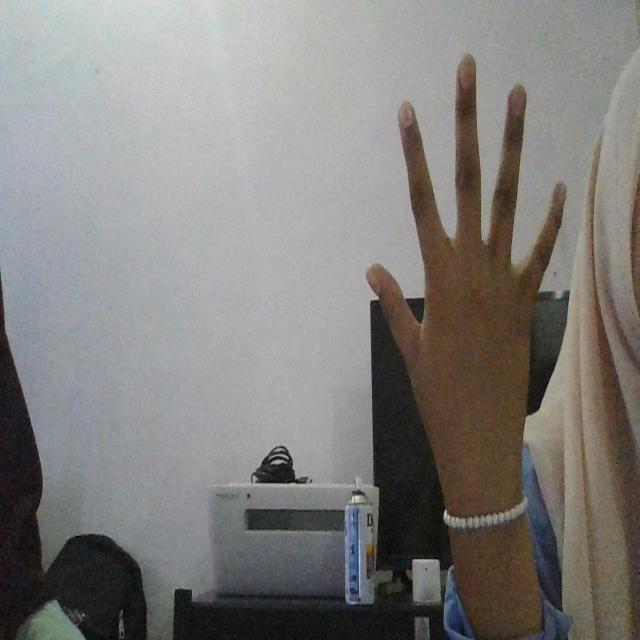hand: (364, 53, 570, 524)
